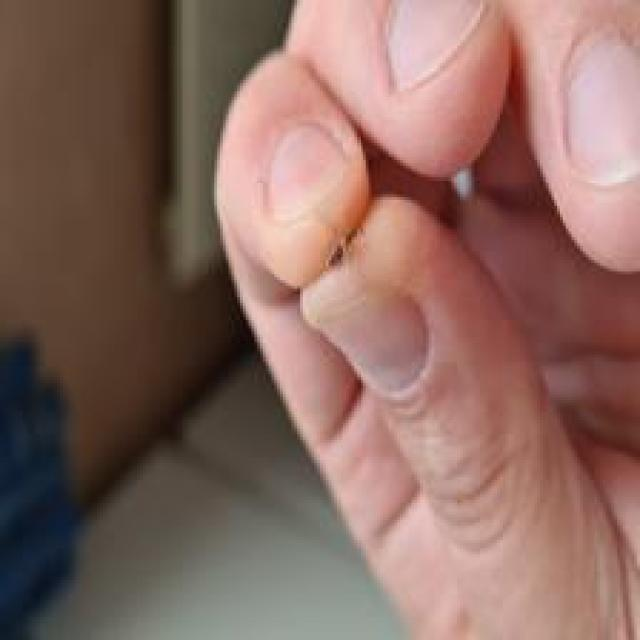Culex: (0, 328, 83, 640)
